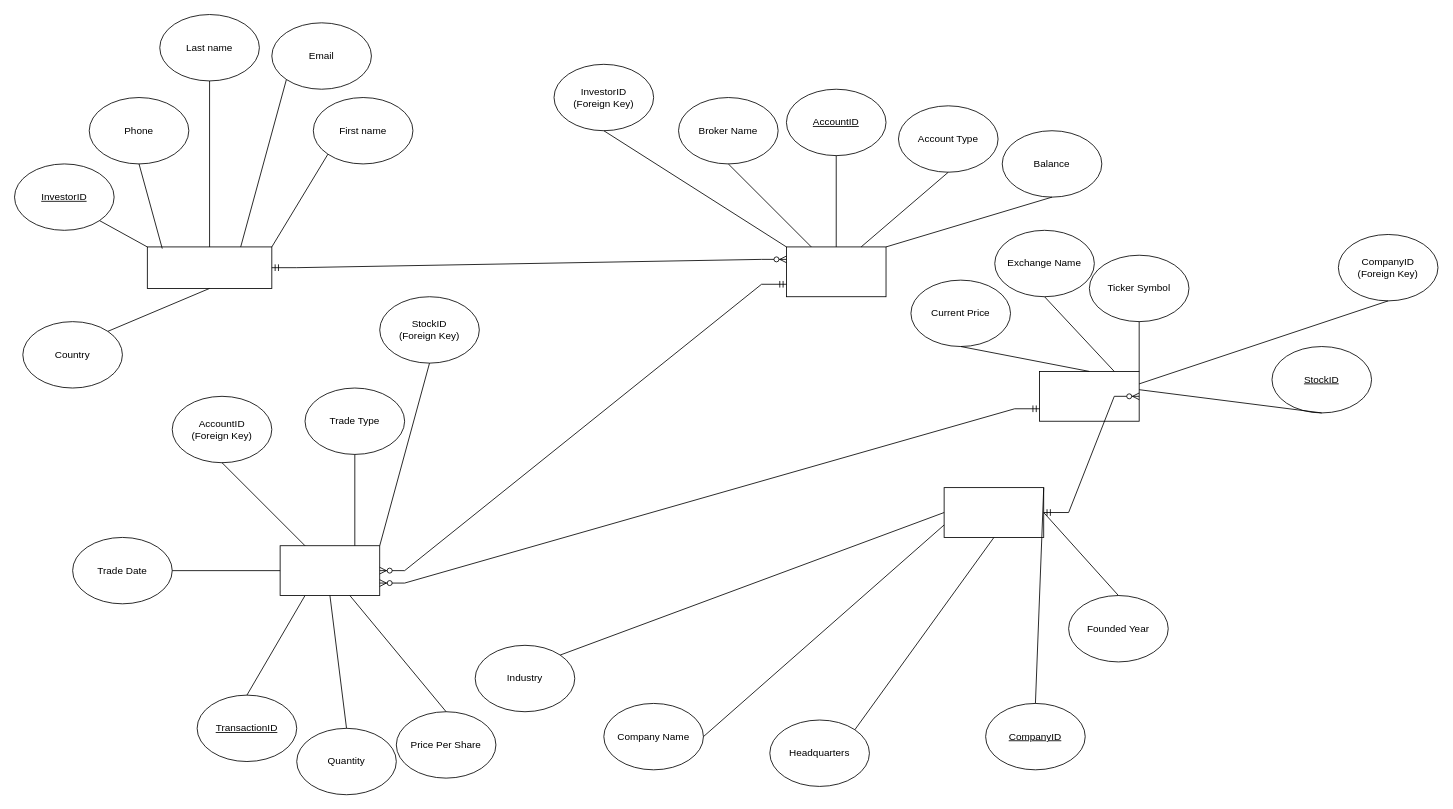
This 1453x809 diagram has some shape labels left out. Each missing label, with the centre of its shape:
Brokerage Account: (836,271)
Company: (993,512)
Investor: (209,267)
Stock: (1089,396)
Trade Transaction: (329,570)
